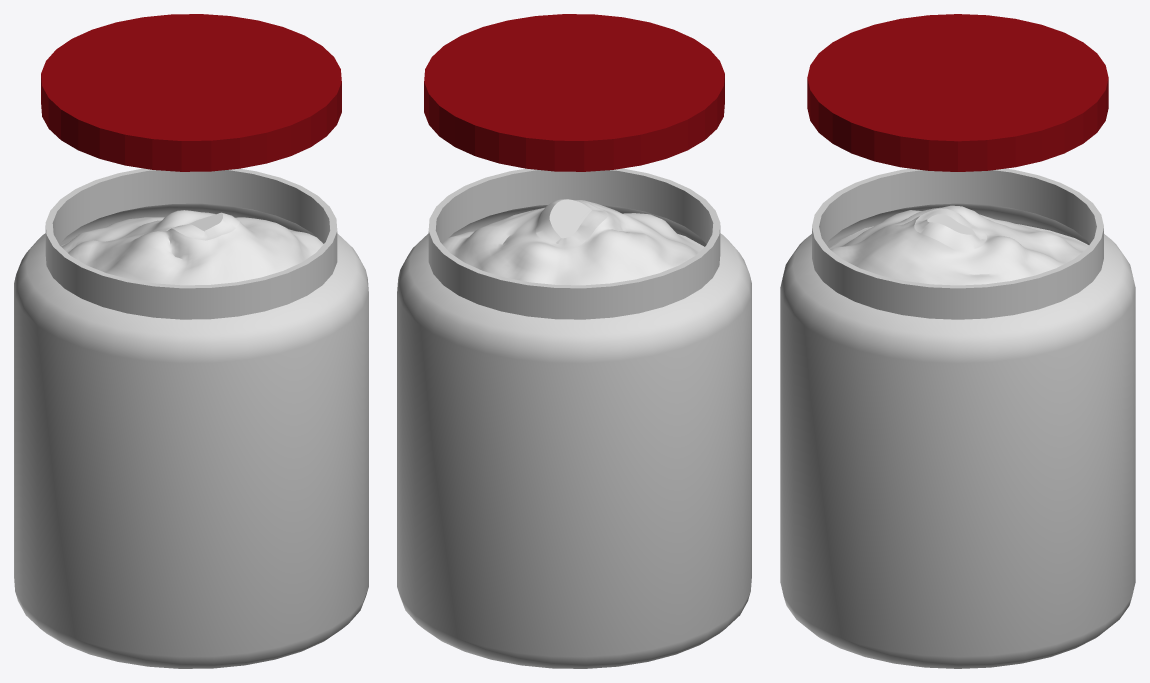
The model's file is sulfur.fbx.
3 views of the same model, side by side, from view 1: azimuth 30°, elevation 25°; view 2: azimuth 150°, elevation 25°; view 3: azimuth 270°, elevation 25° (orthographic).
Visible parts, largest first — view 1: Banka, Krishka, sera; view 2: Banka, Krishka, sera; view 3: Banka, Krishka, sera.
Boxes of the visible parts, x1,y1,x2,y2 form: Banka: (14, 168, 368, 668); Krishka: (41, 14, 341, 171); sera: (60, 210, 323, 285); Banka: (397, 168, 751, 668); Krishka: (424, 14, 724, 171); sera: (442, 199, 704, 285); Banka: (780, 168, 1135, 668); Krishka: (807, 14, 1108, 171); sera: (829, 205, 1088, 285).
Size of the model in its own units: 104 by 169 by 104.
